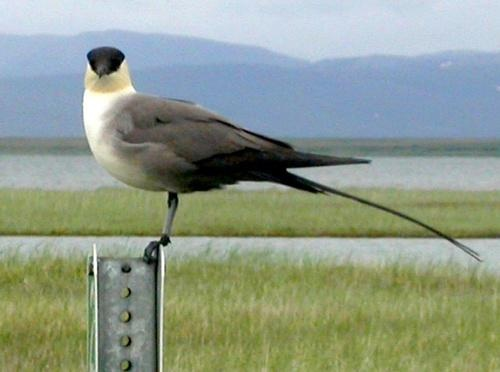bird: (77, 45, 482, 267)
